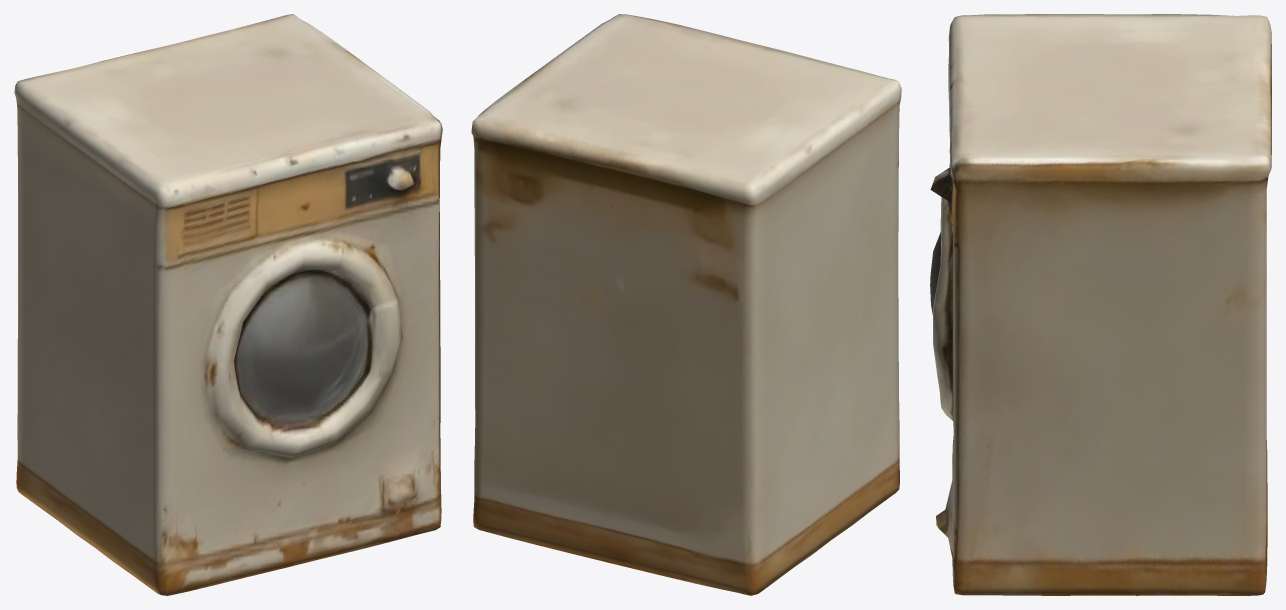
Rendered from washer.glb.
The picture shows the model from 3 angles, left to right: view 1: azimuth 30°, elevation 25°; view 2: azimuth 150°, elevation 25°; view 3: azimuth 270°, elevation 25°; orthographic projection. The views are drawn at different scales.
Visible parts, largest first — view 1: washer; view 2: washer; view 3: washer.
Boxes of the visible parts, x1,y1,x2,y2 form: washer: (14, 14, 442, 595); washer: (471, 14, 901, 595); washer: (930, 14, 1271, 595).
Size of the model in its own units: 0.62 by 0.86 by 0.6.
1 material, 1 textured.
